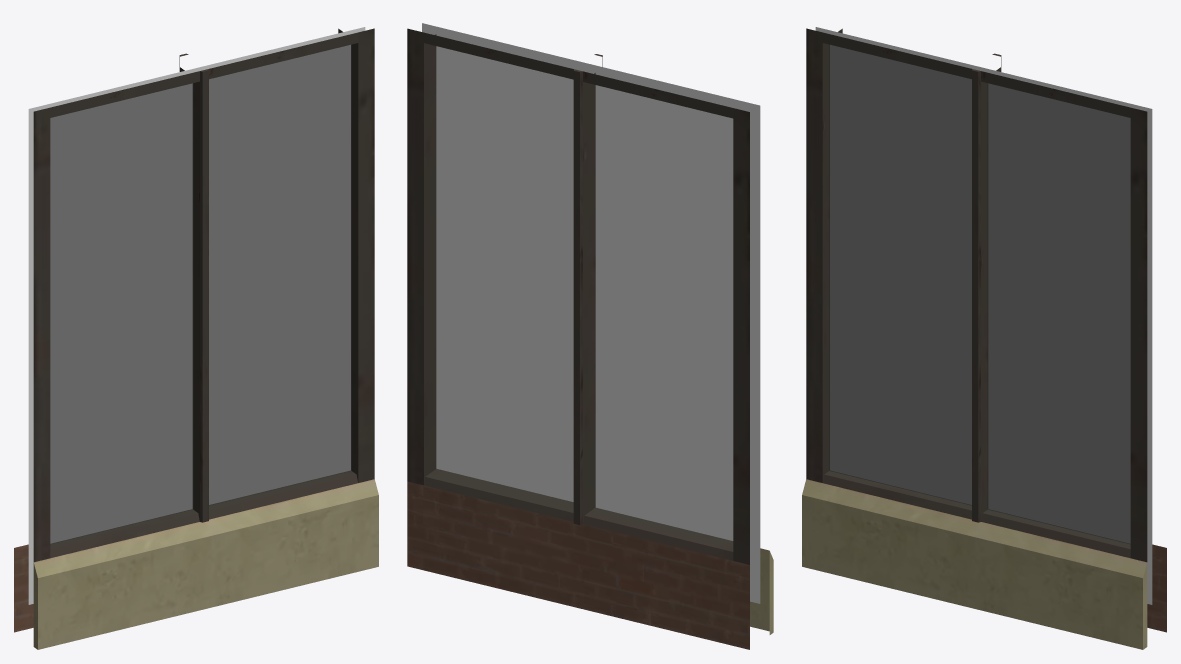
The model's file is Metal_FirstFloor_Window.glb.
The picture shows the model from 3 angles, left to right: view 1: azimuth 30°, elevation 25°; view 2: azimuth 150°, elevation 25°; view 3: azimuth 330°, elevation 25°; orthographic projection.
Visible parts, largest first — view 1: Metal_FirstFloor_Window; view 2: Metal_FirstFloor_Window; view 3: Metal_FirstFloor_Window.
Boxes of the visible parts, box(x1,y1,x2,y2) form: Metal_FirstFloor_Window: box(14, 27, 378, 649); Metal_FirstFloor_Window: box(407, 23, 773, 649); Metal_FirstFloor_Window: box(802, 27, 1166, 649).
Size of the model in its own units: 2 by 3 by 0.2589.
Materials: 5 (3 with a texture image).
